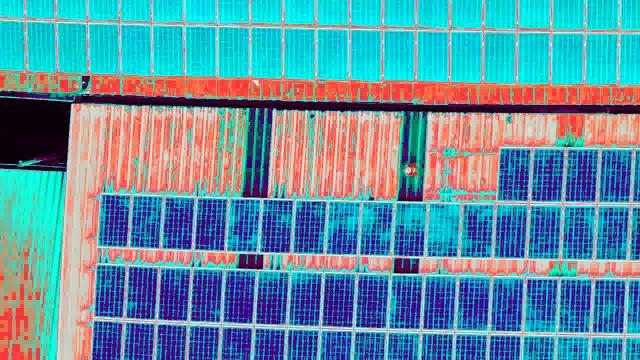clean: (99, 265, 126, 317), (130, 265, 157, 317), (160, 268, 187, 320), (192, 271, 219, 323), (225, 269, 252, 321), (325, 274, 352, 326), (359, 275, 386, 327), (259, 271, 286, 323), (290, 272, 317, 324)
dirty: (25, 20, 57, 71), (56, 22, 88, 73), (88, 23, 120, 74), (119, 23, 151, 74), (153, 24, 185, 75), (182, 25, 214, 76), (217, 27, 249, 78), (249, 25, 281, 76), (281, 27, 313, 78), (316, 29, 348, 80), (350, 28, 382, 79), (384, 28, 416, 79), (417, 30, 449, 81), (452, 30, 484, 81), (483, 31, 515, 82), (517, 32, 549, 83), (553, 32, 585, 83), (586, 32, 618, 83)
semi: (360, 202, 389, 256), (394, 201, 423, 255), (428, 202, 457, 256), (463, 202, 492, 256), (497, 205, 526, 259), (530, 205, 559, 259), (562, 203, 591, 257), (599, 204, 628, 258), (600, 147, 629, 201), (567, 146, 596, 200), (532, 147, 561, 201), (501, 146, 530, 200), (390, 273, 419, 327), (425, 276, 454, 330), (458, 274, 487, 328), (496, 276, 525, 330), (527, 279, 556, 333), (560, 277, 589, 331), (596, 278, 625, 332), (101, 194, 128, 247), (133, 194, 160, 247), (165, 196, 192, 249), (197, 197, 224, 250), (231, 197, 258, 250), (264, 200, 291, 253), (296, 200, 323, 253), (329, 201, 356, 254)
